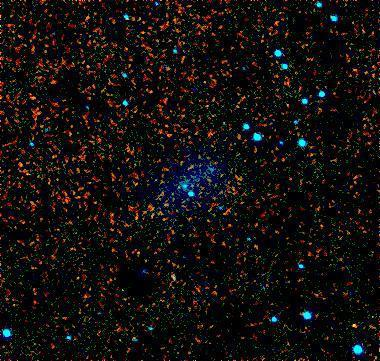star: (342, 306, 372, 336)
